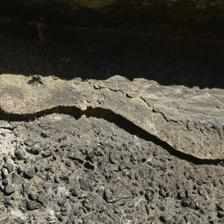Crack: (70, 11, 154, 73), (104, 68, 167, 94)
